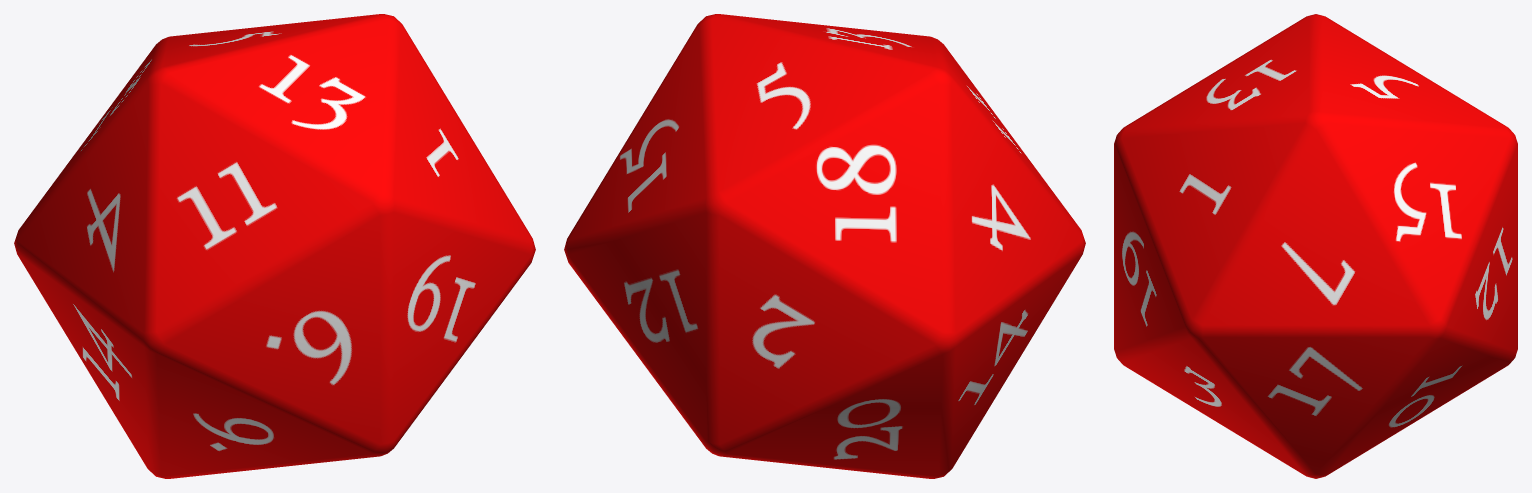
3 renders of one model, left to right at view 1: azimuth 30°, elevation 25°; view 2: azimuth 150°, elevation 25°; view 3: azimuth 270°, elevation 25°, orthographic. The views are drawn at different scales.
Visible parts, largest first — view 1: D20; view 2: D20; view 3: D20.
Boxes of the visible parts, box(x1,y1,x2,y2) form: D20: box(14, 14, 535, 478); D20: box(564, 14, 1085, 478); D20: box(1114, 14, 1517, 478).
Bounding box in the file's own units: 0.6211 × 0.6211 × 0.6211.
Materials: 1 (1 with a texture image).
